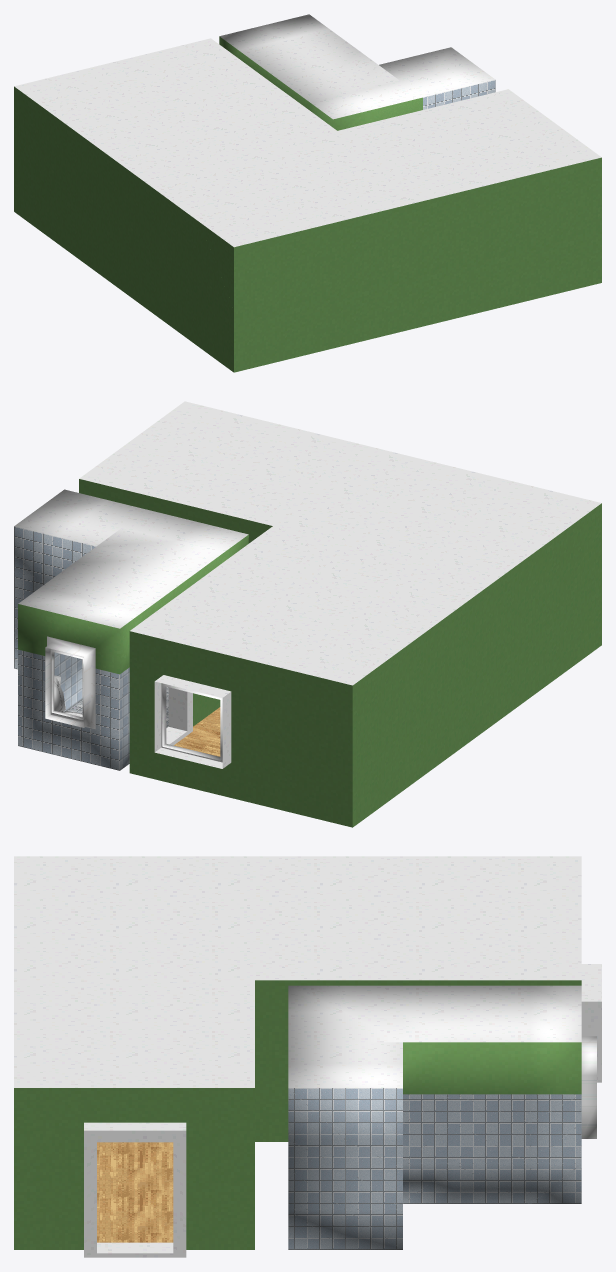
File: SimonsRoom.fbx
3 renders of one model, top to bottom at view 1: azimuth 30°, elevation 25°; view 2: azimuth 150°, elevation 25°; view 3: azimuth 270°, elevation 25°, orthographic. The views are drawn at different scales.
Visible parts, largest first — view 1: Room, Bathroom, Shower; view 2: Room, Bathroom, Shower, Room_WindowFrame, DoorFrame1, window_frame1, window_frame_bath; view 3: Room, Bathroom, Shower, DoorFrame2, Room_WindowFrame.
Boxes of the visible parts, bbox=[...] form: Room: bbox=[14, 38, 601, 372]; Bathroom: bbox=[219, 14, 422, 130]; Shower: bbox=[379, 47, 495, 109]; Room: bbox=[79, 401, 601, 827]; Bathroom: bbox=[18, 509, 248, 770]; Shower: bbox=[14, 489, 146, 669]; Room_WindowFrame: bbox=[154, 675, 231, 768]; DoorFrame1: bbox=[166, 687, 192, 745]; window_frame1: bbox=[161, 683, 222, 762]; window_frame_bath: bbox=[50, 649, 83, 722]; Room: bbox=[14, 856, 581, 1249]; Bathroom: bbox=[288, 985, 596, 1203]; Shower: bbox=[288, 1042, 402, 1249]; DoorFrame2: bbox=[84, 1122, 186, 1257]; Room_WindowFrame: bbox=[581, 964, 601, 1082].
Bounding box in the file's own units: 1112 × 350 × 1153.
